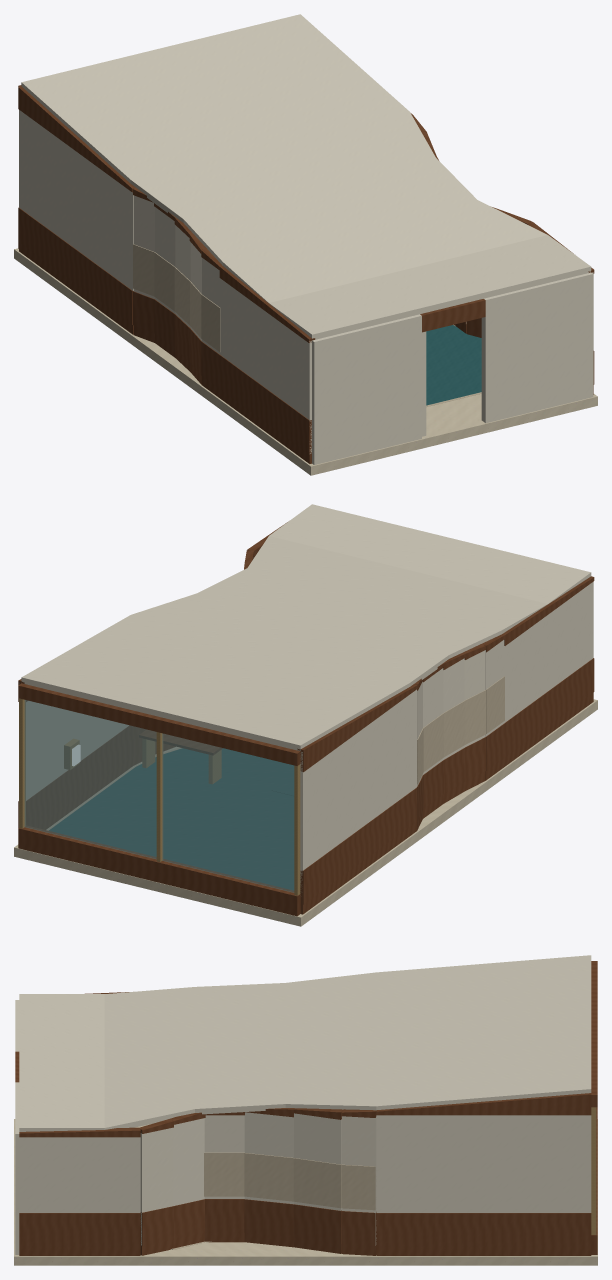
The model's file is shell.glb.
3 views of the same model, one above another, from view 1: azimuth 30°, elevation 25°; view 2: azimuth 150°, elevation 25°; view 3: azimuth 270°, elevation 25° (orthographic).
Visible parts, largest first — view 1: SUI_Runtime_ivory_enamel, SUI_Runtime_warm_walnut, SUI_Runtime_warm_stone, SUI_Runtime_oatmeal_weave, SUI_Runtime_teal_weave; view 2: SUI_Runtime_ivory_enamel, SUI_Runtime_warm_walnut, SUI_Runtime_SuiteHospitalityGlass, SUI_Runtime_teal_weave, SUI_Runtime_warm_stone, SUI_Runtime_oatmeal_weave, SUI_Runtime_champagne_metal; view 3: SUI_Runtime_ivory_enamel, SUI_Runtime_warm_walnut, SUI_Runtime_warm_stone, SUI_Runtime_oatmeal_weave, SUI_Runtime_champagne_metal.
Part boxes in pixels (left/top/right/bottom): SUI_Runtime_ivory_enamel: left=19, top=14, right=593, bottom=464; SUI_Runtime_warm_walnut: left=18, top=85, right=594, bottom=463; SUI_Runtime_warm_stone: left=14, top=248, right=597, bottom=475; SUI_Runtime_oatmeal_weave: left=133, top=244, right=481, bottom=406; SUI_Runtime_teal_weave: left=426, top=325, right=481, bottom=405; SUI_Runtime_ivory_enamel: left=19, top=504, right=593, bottom=885; SUI_Runtime_warm_walnut: left=18, top=522, right=594, bottom=916; SUI_Runtime_SuiteHospitalityGlass: left=24, top=700, right=294, bottom=892; SUI_Runtime_teal_weave: left=49, top=748, right=293, bottom=890; SUI_Runtime_warm_stone: left=14, top=699, right=597, bottom=926; SUI_Runtime_oatmeal_weave: left=46, top=676, right=504, bottom=830; SUI_Runtime_champagne_metal: left=19, top=698, right=300, bottom=895; SUI_Runtime_ivory_enamel: left=15, top=955, right=591, bottom=1254; SUI_Runtime_warm_walnut: left=15, top=961, right=597, bottom=1255; SUI_Runtime_warm_stone: left=14, top=1119, right=597, bottom=1265; SUI_Runtime_oatmeal_weave: left=170, top=1152, right=375, bottom=1249; SUI_Runtime_champagne_metal: left=591, top=1107, right=596, bottom=1234.
Bounding box in the file's own units: 7.2 × 4.26 × 12.9.
Materials: 8 (6 with a texture image).
